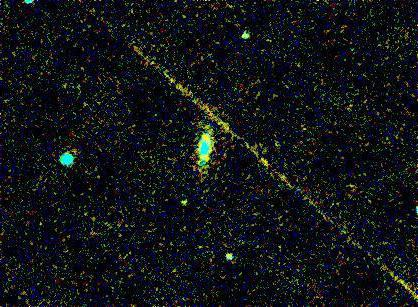star: (168, 188, 198, 218)
